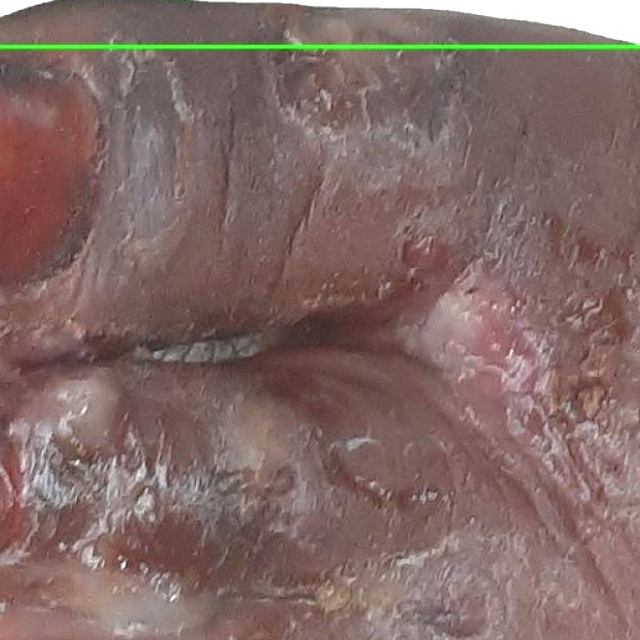Eczema: (0, 0, 639, 46)
